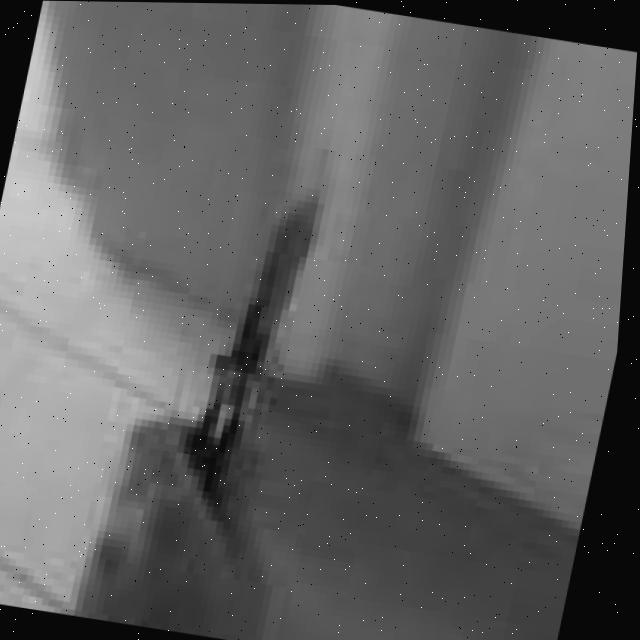knife: (186, 168, 355, 462)
